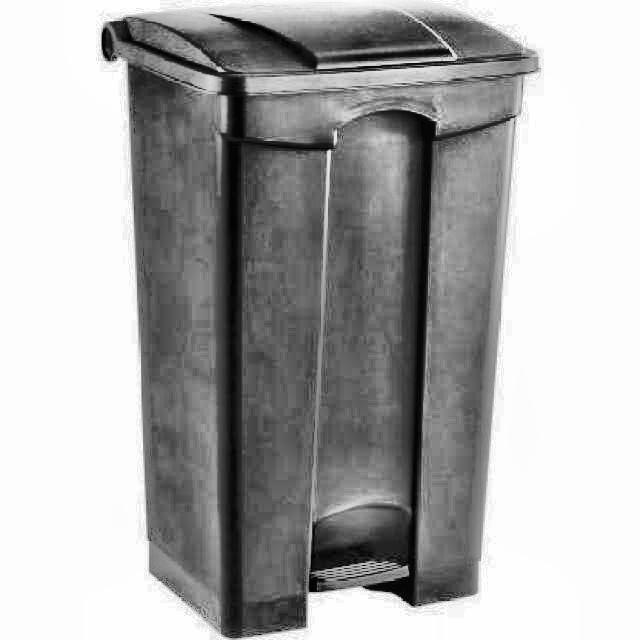Dustbin: (89, 1, 552, 640)
